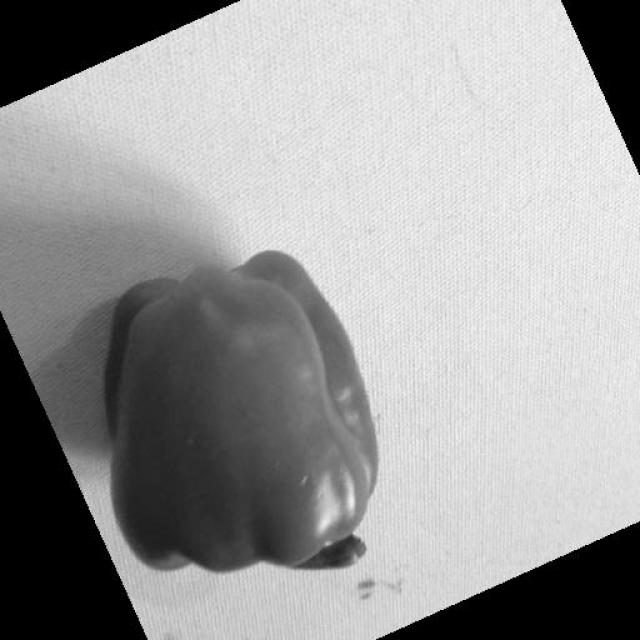Fresh_Capsicum: (70, 262, 406, 594)
